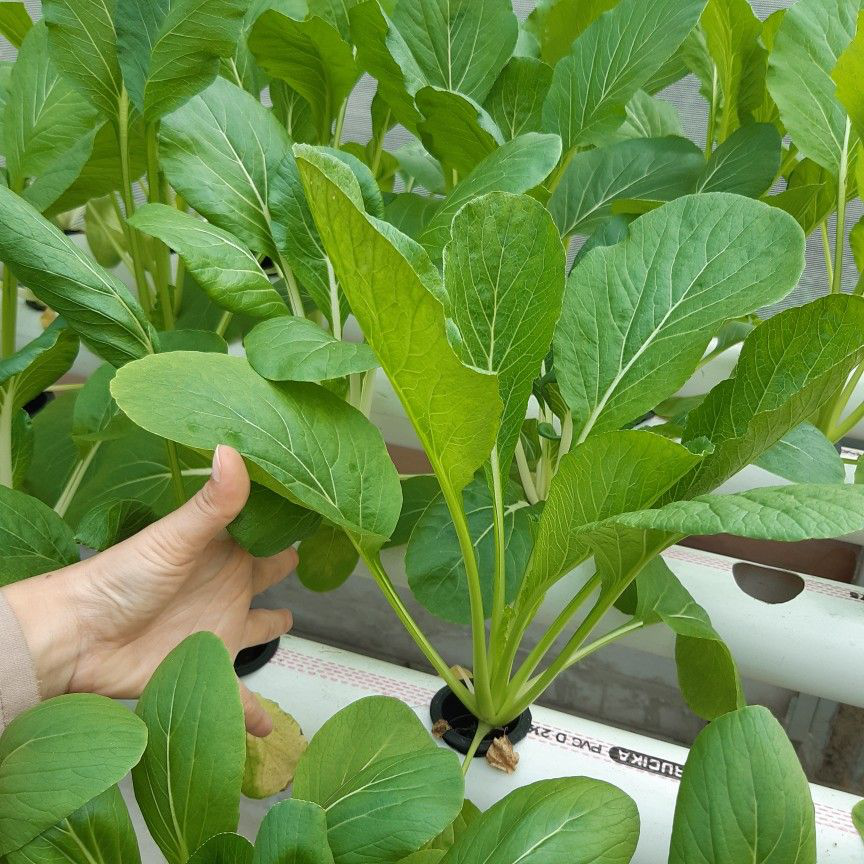Sawi: (283, 237, 856, 789)
